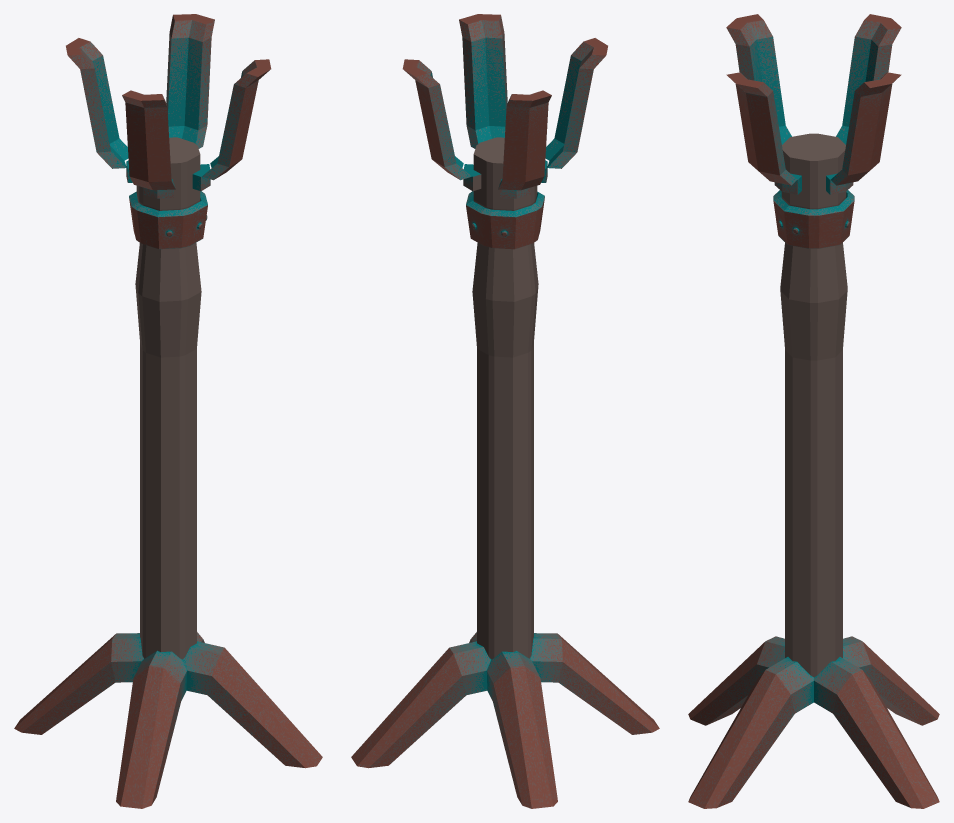
Rendered from TorchHolder.fbx.
The picture shows the model from 3 angles, left to right: view 1: azimuth 30°, elevation 25°; view 2: azimuth 150°, elevation 25°; view 3: azimuth 270°, elevation 25°; orthographic projection. The views are drawn at different scales.
Visible parts, largest first — view 1: TorchHolder; view 2: TorchHolder; view 3: TorchHolder.
Part boxes in pixels (x1,y1,x2,y2): TorchHolder: (14,14,322,808); TorchHolder: (351,14,659,808); TorchHolder: (688,14,939,808).
Bounding box in the file's own units: 21.76 × 70.44 × 22.72.
